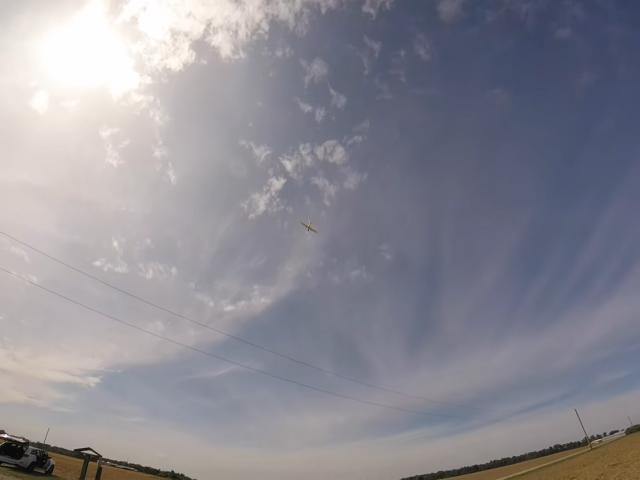plane: (301, 221, 317, 235)
